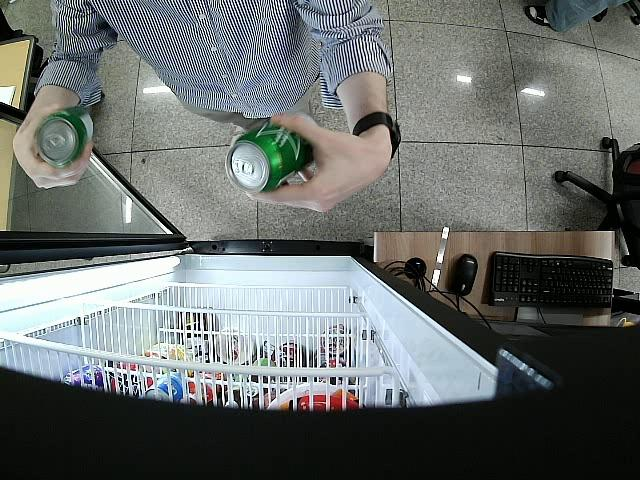00_hand: (242, 114, 388, 211), (13, 98, 93, 190)
12_chilsungCider: (225, 122, 319, 195), (35, 108, 90, 168)
